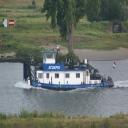tugboat: (23, 45, 117, 93)
